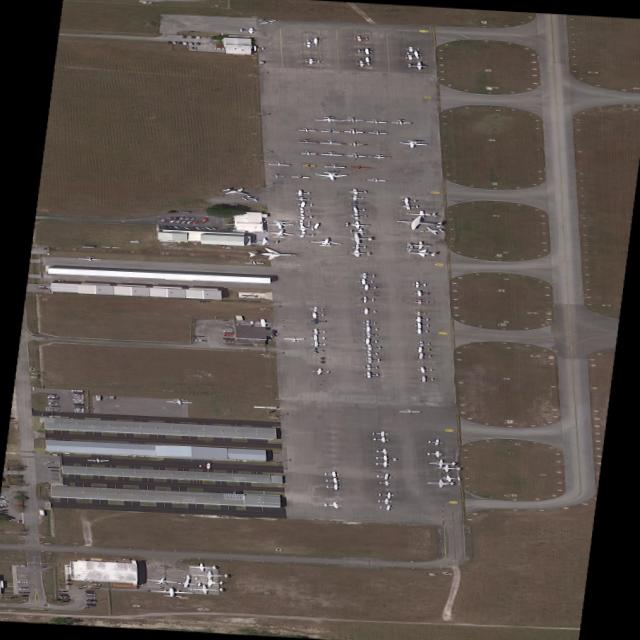large-vehicle: (37, 510, 44, 515), (93, 396, 100, 401), (73, 393, 83, 395), (108, 396, 114, 399)
plane: (390, 214, 445, 232), (245, 248, 298, 261), (147, 587, 193, 598), (184, 584, 224, 595), (189, 570, 228, 581), (216, 187, 256, 197), (308, 237, 344, 248), (263, 228, 297, 239), (402, 248, 436, 258), (345, 233, 373, 245), (313, 172, 349, 181), (144, 576, 178, 585), (395, 140, 427, 149), (412, 227, 446, 235), (424, 479, 454, 488), (426, 459, 456, 468), (194, 578, 224, 587), (264, 221, 294, 230), (186, 563, 216, 572), (403, 210, 435, 218), (173, 579, 201, 588), (251, 237, 279, 246), (434, 464, 461, 473), (311, 116, 343, 123), (343, 221, 369, 229), (405, 241, 430, 249), (251, 18, 279, 25), (248, 319, 271, 327), (237, 195, 263, 202), (345, 250, 370, 257), (164, 399, 192, 405), (406, 62, 427, 70), (321, 502, 344, 509), (438, 475, 461, 482), (360, 344, 382, 351), (292, 225, 314, 232), (293, 231, 315, 238), (238, 27, 259, 34), (346, 213, 367, 220), (348, 228, 368, 235), (266, 161, 289, 167), (366, 154, 389, 160), (399, 203, 418, 210), (361, 357, 380, 364), (402, 245, 420, 252), (389, 119, 410, 125), (294, 213, 312, 220), (376, 492, 394, 499), (373, 473, 391, 480), (396, 409, 420, 414), (85, 458, 109, 463), (346, 189, 366, 195), (343, 141, 363, 147), (342, 129, 362, 135), (339, 117, 363, 122), (77, 257, 101, 262), (308, 328, 325, 335), (311, 368, 328, 375), (343, 153, 366, 158), (318, 140, 341, 145), (363, 119, 386, 124), (347, 207, 366, 213), (370, 431, 389, 437), (424, 451, 443, 457), (359, 308, 375, 315), (417, 376, 433, 383), (303, 58, 319, 65), (322, 164, 344, 169), (319, 152, 341, 157), (371, 437, 389, 443), (309, 341, 327, 347), (415, 367, 433, 373), (372, 461, 390, 467), (356, 273, 374, 279), (295, 202, 313, 208), (308, 335, 326, 341), (362, 338, 377, 345), (364, 178, 385, 183), (197, 462, 212, 469), (295, 139, 316, 144), (366, 130, 387, 135), (356, 48, 371, 55), (410, 281, 425, 288), (376, 498, 391, 505), (308, 318, 325, 324), (307, 312, 324, 318), (362, 372, 379, 378), (413, 353, 430, 359), (413, 347, 430, 353), (323, 478, 340, 484), (324, 484, 341, 490), (348, 201, 365, 207), (412, 317, 429, 323), (412, 291, 429, 297), (293, 190, 310, 196), (304, 223, 321, 229), (294, 208, 311, 214), (322, 471, 339, 477), (372, 455, 389, 461), (180, 575, 197, 581), (359, 296, 373, 303), (426, 439, 442, 445), (281, 338, 305, 342), (361, 365, 377, 371), (412, 299, 428, 305), (350, 244, 366, 250), (357, 279, 373, 285), (361, 326, 377, 332), (361, 332, 377, 338), (376, 505, 392, 511), (361, 351, 379, 356), (415, 341, 430, 347), (413, 323, 428, 329), (374, 449, 389, 455), (400, 198, 415, 204), (354, 61, 369, 67), (301, 42, 316, 48), (305, 38, 320, 44), (405, 51, 420, 57), (348, 195, 363, 201), (360, 285, 375, 291), (294, 220, 309, 226), (348, 166, 370, 170), (298, 151, 315, 156), (307, 348, 324, 353), (361, 320, 375, 326), (319, 129, 340, 133), (295, 128, 316, 132), (412, 329, 428, 334), (351, 36, 367, 41), (243, 261, 263, 265), (290, 175, 309, 179), (403, 55, 418, 60), (404, 47, 419, 52), (357, 57, 369, 63), (309, 307, 323, 312), (301, 163, 315, 168), (412, 311, 425, 316), (377, 481, 390, 486), (294, 197, 310, 201), (268, 174, 283, 178)
small-vehicle: (193, 339, 206, 342), (46, 396, 58, 399), (75, 586, 87, 589), (199, 218, 208, 222), (155, 220, 165, 223), (181, 227, 191, 230), (166, 226, 176, 229), (69, 390, 83, 392), (196, 301, 210, 303), (0, 509, 9, 512), (13, 520, 22, 523), (166, 220, 175, 223), (198, 227, 207, 230), (203, 227, 212, 230), (164, 217, 173, 220), (172, 220, 181, 223), (70, 399, 83, 401), (46, 467, 59, 469), (221, 338, 234, 340), (0, 511, 8, 514), (46, 403, 58, 405), (71, 409, 83, 411), (72, 404, 84, 406), (71, 392, 83, 394), (84, 604, 96, 606), (85, 600, 97, 602), (17, 592, 29, 594), (17, 588, 29, 590), (16, 581, 28, 583), (14, 565, 26, 567), (225, 204, 237, 206), (213, 245, 225, 247), (220, 247, 232, 249), (172, 226, 180, 229), (188, 227, 196, 230), (193, 227, 201, 230), (188, 218, 196, 221), (177, 217, 185, 220), (191, 221, 199, 224), (184, 221, 192, 224), (48, 409, 59, 411), (47, 398, 58, 400), (46, 394, 57, 396), (73, 408, 84, 410), (72, 403, 83, 405), (72, 402, 83, 404), (72, 397, 83, 399), (72, 394, 83, 396), (58, 596, 69, 598), (57, 594, 68, 596), (84, 603, 95, 605), (84, 598, 95, 600), (84, 594, 95, 596), (89, 584, 100, 586), (222, 341, 233, 343), (178, 211, 189, 213), (183, 217, 190, 220), (179, 221, 186, 224), (48, 402, 58, 404), (49, 470, 59, 472), (6, 519, 16, 521), (58, 597, 68, 599), (58, 593, 68, 595), (84, 595, 94, 597), (84, 592, 94, 594), (84, 591, 94, 593), (84, 590, 94, 592), (90, 585, 100, 587), (18, 587, 28, 589), (185, 47, 195, 49), (214, 45, 224, 47), (222, 335, 232, 337), (37, 286, 47, 288), (159, 226, 169, 228), (258, 61, 264, 64), (86, 599, 95, 601), (89, 582, 98, 584), (181, 42, 187, 45), (187, 42, 193, 45), (189, 36, 195, 39), (194, 36, 200, 39), (215, 46, 223, 48), (223, 332, 231, 334), (209, 228, 217, 230), (171, 41, 176, 44), (181, 35, 186, 38), (192, 336, 204, 337), (73, 407, 84, 408), (49, 406, 60, 407), (47, 401, 58, 402), (46, 396, 57, 397), (72, 411, 83, 412), (73, 401, 84, 402), (57, 591, 68, 592), (89, 588, 100, 589), (213, 48, 224, 49), (48, 400, 58, 401), (86, 606, 96, 607), (224, 340, 234, 341), (176, 42, 181, 44), (222, 327, 232, 328), (222, 331, 231, 332), (38, 288, 47, 289), (195, 43, 199, 45), (223, 334, 231, 335)
